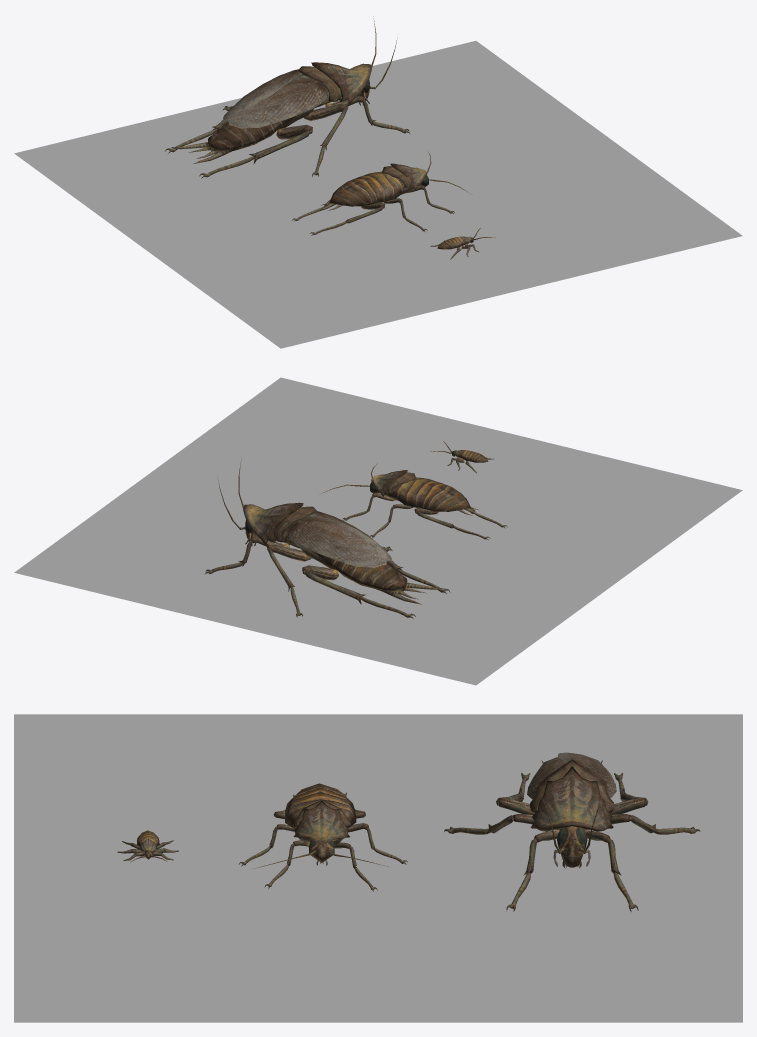
Rendered from radroach_lifecycle.fbx.
3 renders of one model, top to bottom at view 1: azimuth 30°, elevation 25°; view 2: azimuth 150°, elevation 25°; view 3: azimuth 270°, elevation 25°, orthographic. The views are drawn at different scales.
Visible parts, largest first — view 1: pPlane1, radroach_Roach, baby_rad_roach_polySurface2; view 2: pPlane1, radroach_Roach, baby_rad_roach_polySurface2; view 3: pPlane1, radroach_Roach, baby_rad_roach_polySurface2, TEMPORARY_IMPORT_NAMESPACE_radroachlarvaef05:0.
Part boxes in pixels (x1,y1,x2,y2): pPlane1: [14, 41, 742, 348]; radroach_Roach: [165, 16, 409, 178]; baby_rad_roach_polySurface2: [292, 152, 470, 235]; pPlane1: [14, 377, 742, 685]; radroach_Roach: [205, 458, 450, 618]; baby_rad_roach_polySurface2: [323, 463, 507, 539]; pPlane1: [14, 714, 742, 1022]; radroach_Roach: [444, 752, 700, 911]; baby_rad_roach_polySurface2: [239, 783, 407, 891]; TEMPORARY_IMPORT_NAMESPACE_radroachlarvaef05:0: [117, 830, 178, 862].
Size of the model in its own units: 73.76 by 15.29 by 73.76.
Materials: 4 (3 with a texture image).
